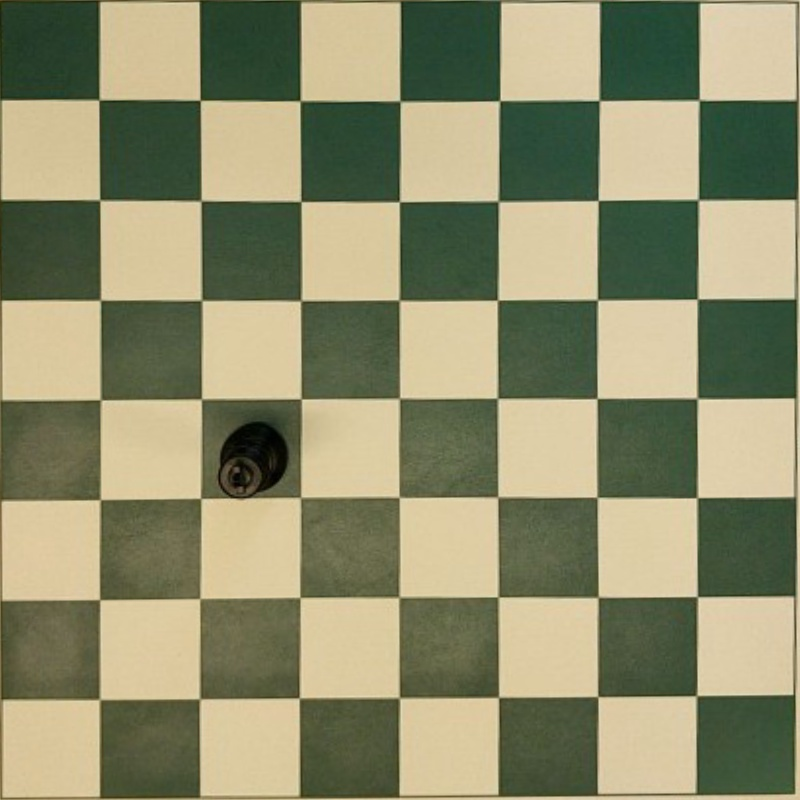black-king: (217, 421, 288, 499)
